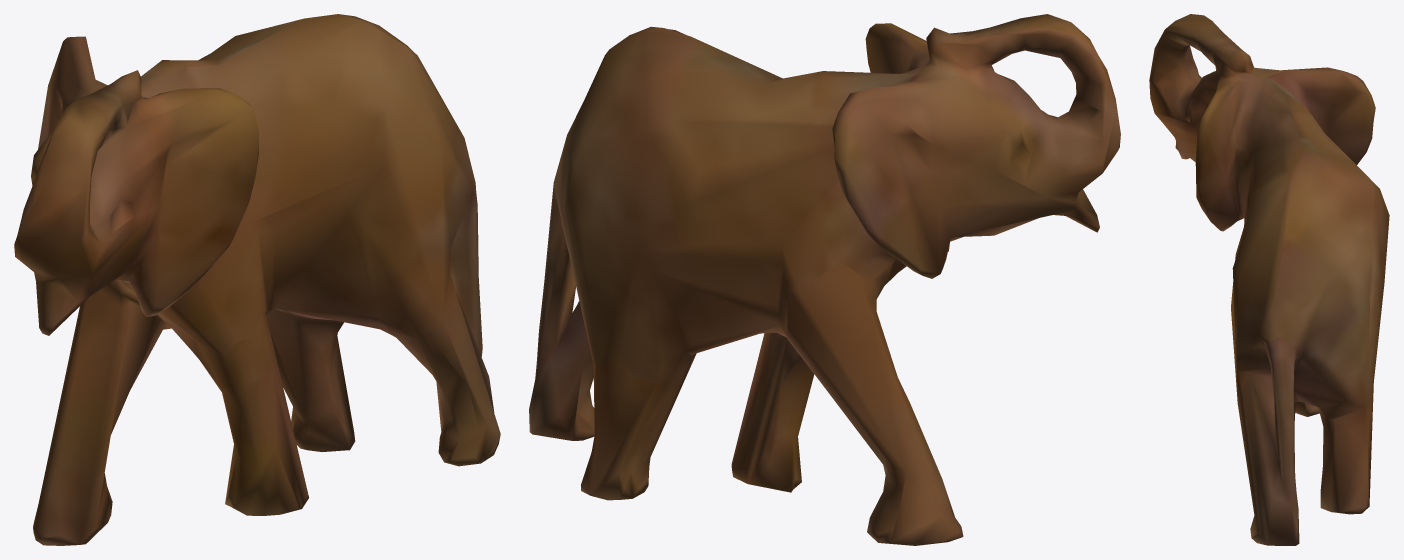
The picture shows the model from 3 angles, left to right: view 1: azimuth 30°, elevation 25°; view 2: azimuth 150°, elevation 25°; view 3: azimuth 270°, elevation 25°; orthographic projection. The views are drawn at different scales.
Parts seen in each view (by area): view 1: carved_wooden_elephant; view 2: carved_wooden_elephant; view 3: carved_wooden_elephant.
Part boxes in pixels (box(x1,y1,x2,y2)): carved_wooden_elephant: box(14, 14, 500, 545); carved_wooden_elephant: box(529, 14, 1120, 545); carved_wooden_elephant: box(1149, 14, 1389, 545).
Size of the model in its own units: 0.109 by 0.0958 by 0.0572.
Materials: 1 (1 with a texture image).
